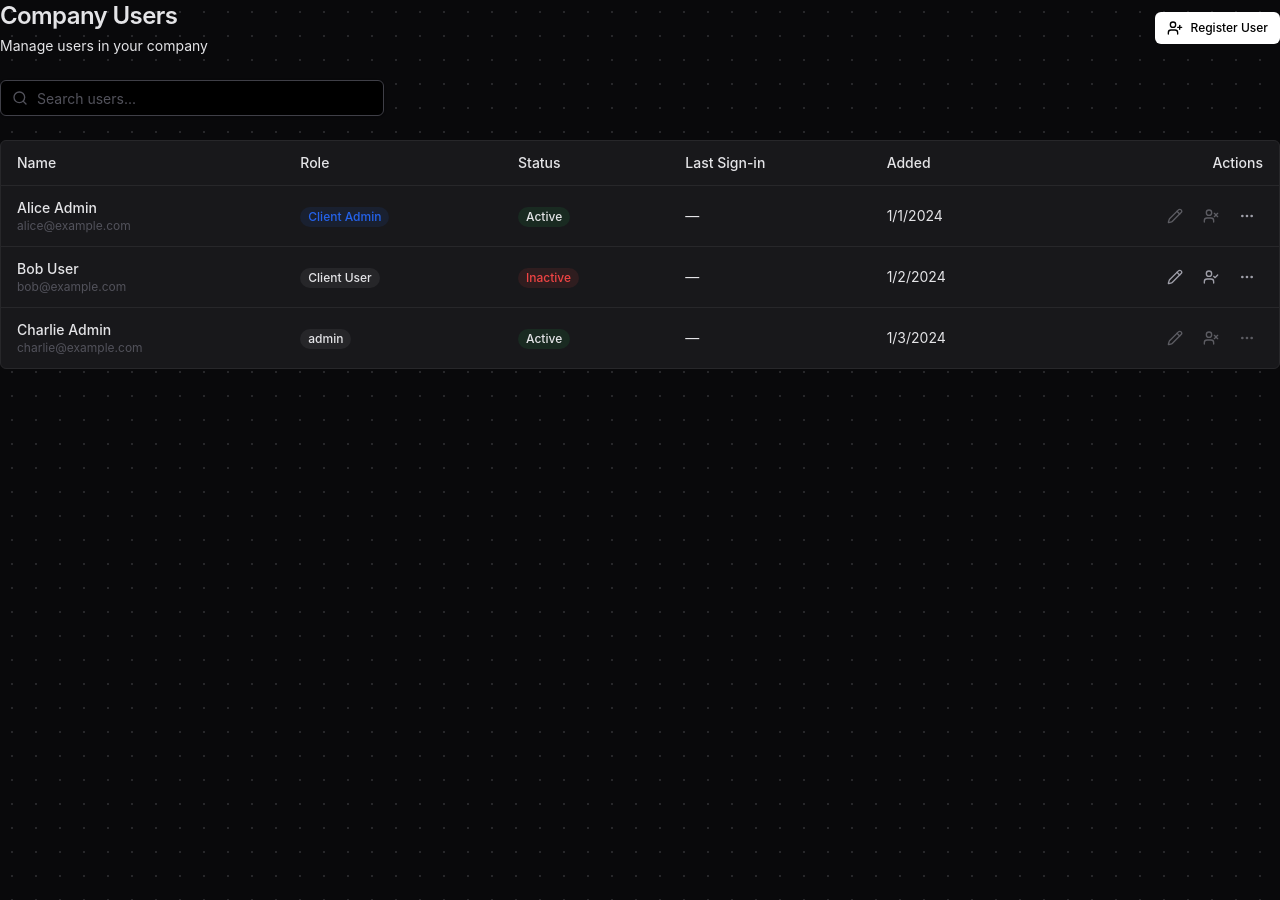
Scenario: T-M3-4.C.6 — User Recovery Menu › surfaces error on resend invite failure
Expected: the text "Bob User" is shown, [17,260,79,277]
Click the button titled "Recovery options" in the row of "Bob User". click: (1247, 277)
box: [1231,261,1263,293]
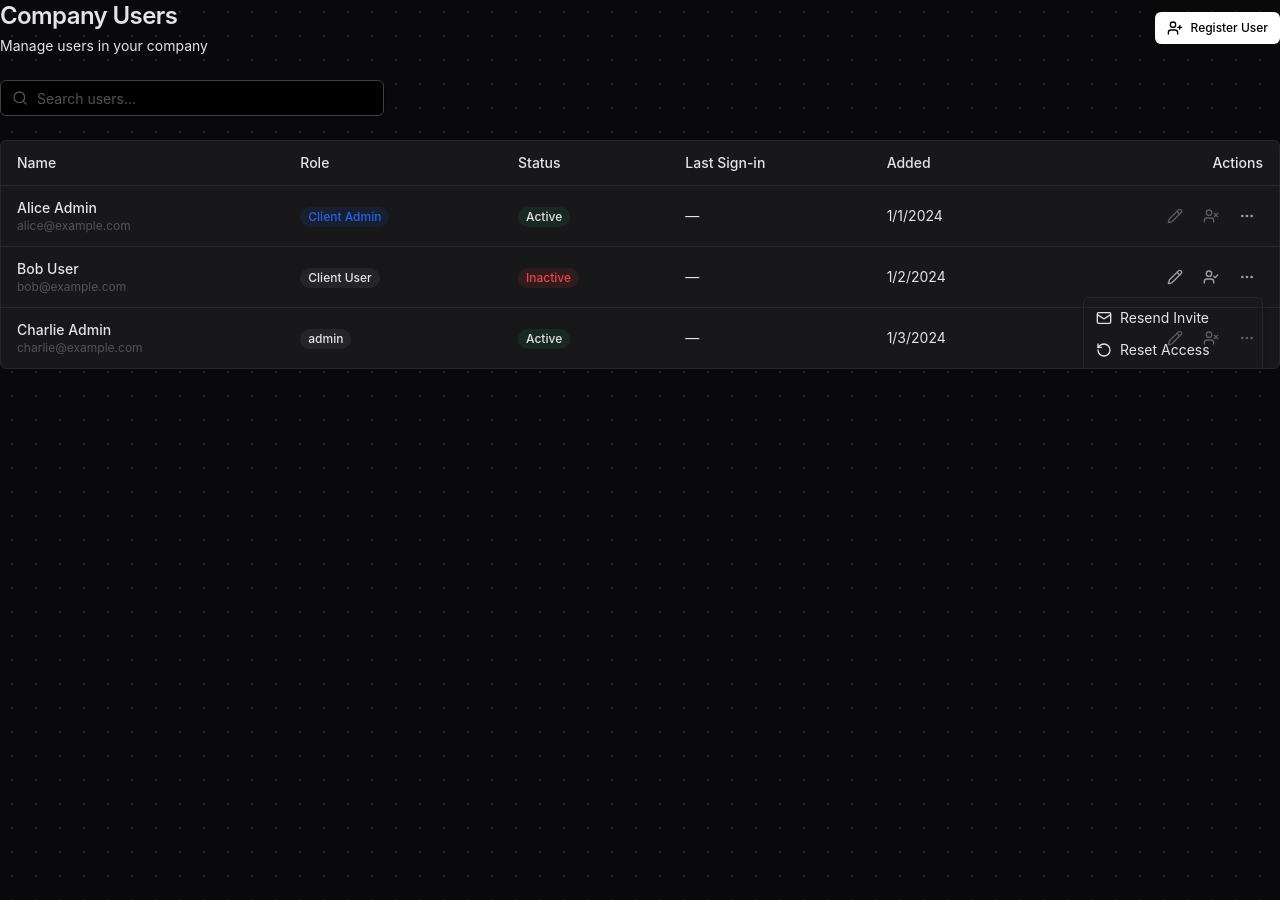
Now the button "Resend Invite" is shown
Click the button "Resend Invite". click: (1173, 318)
box: [1088,302,1258,334]
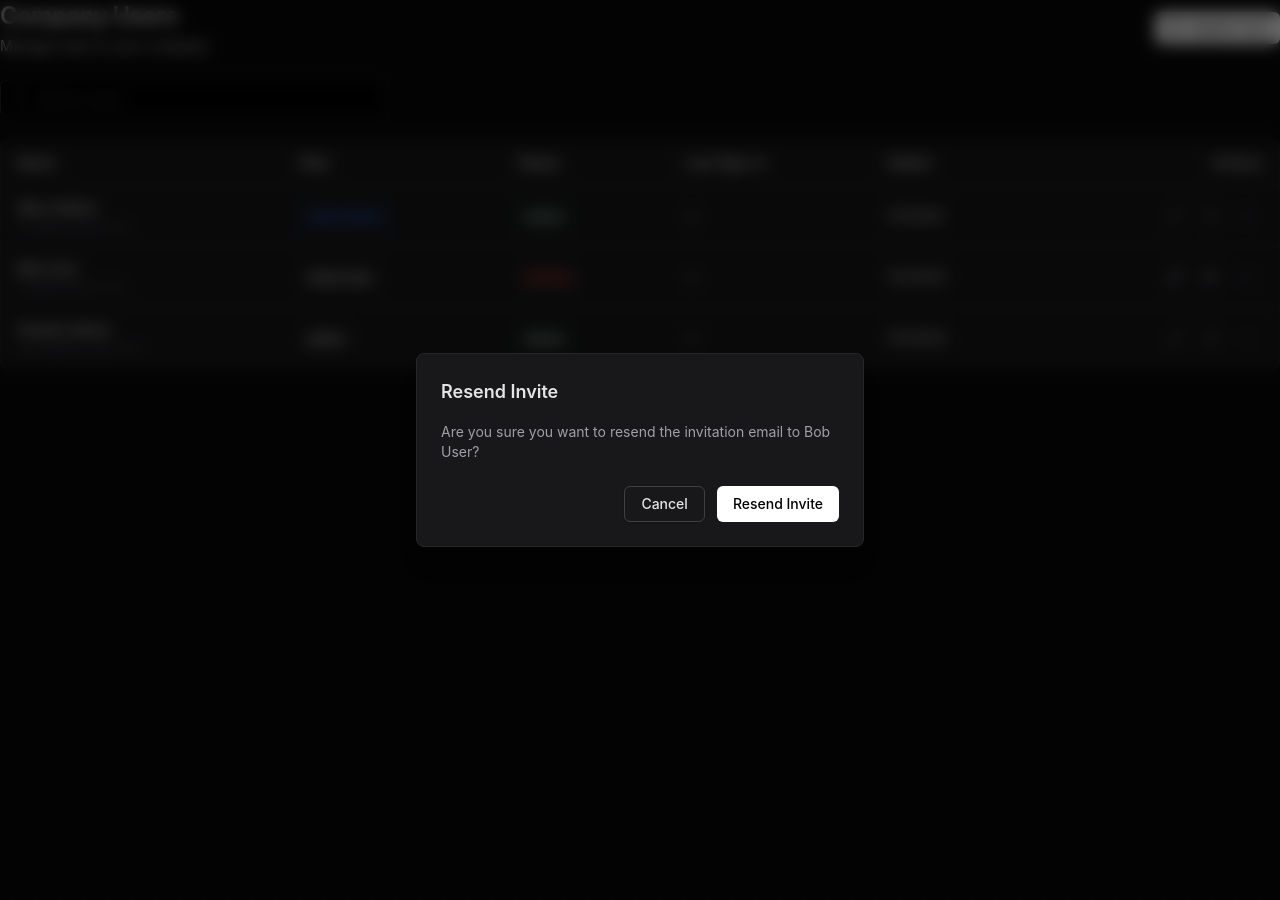
Now the text "resend the invitation" is shown, box [441,423,804,440]
Click the button "Resend Invite". click: (778, 504)
box: [717,486,839,522]
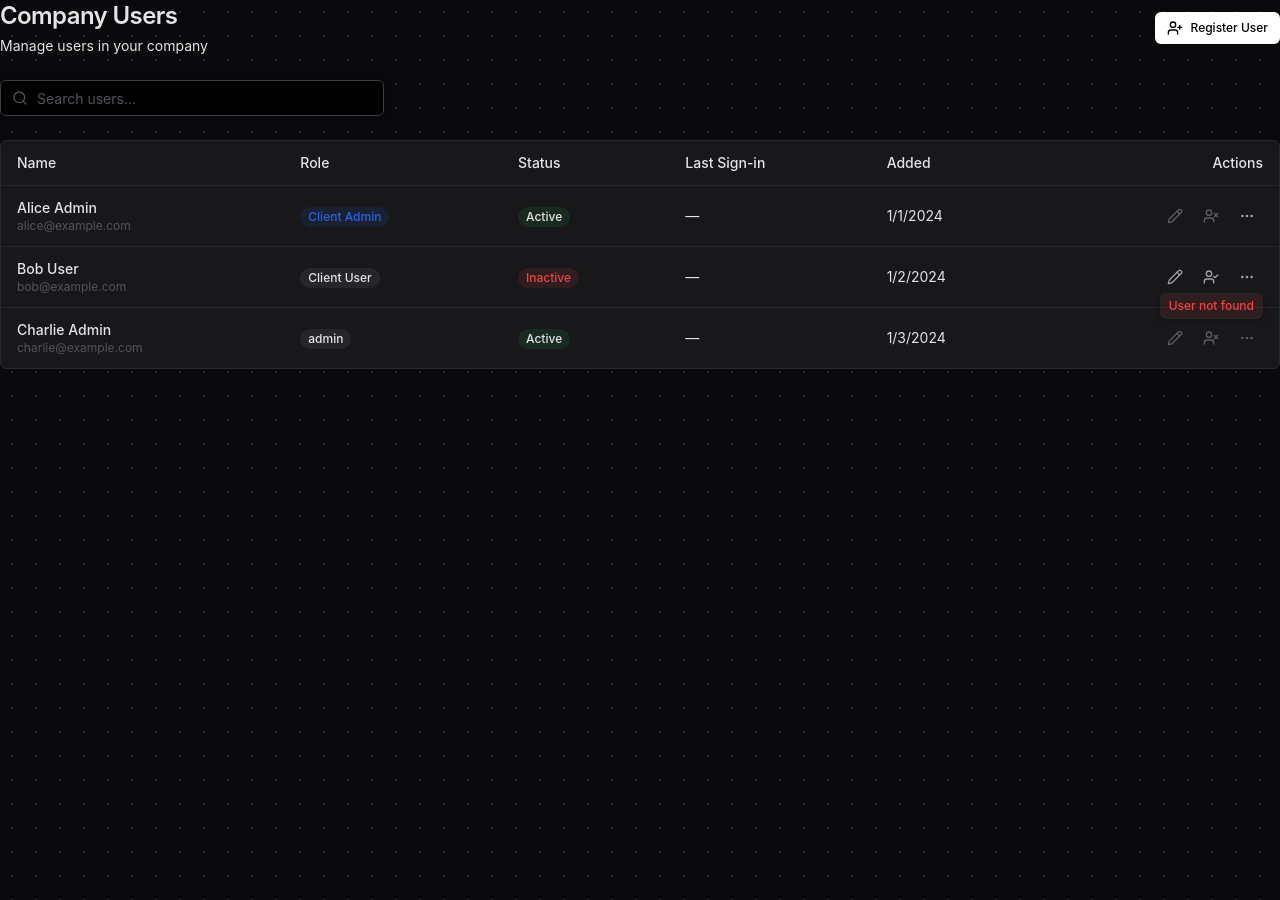
Now the text "User not found" is shown, box [1160,293,1263,319]
